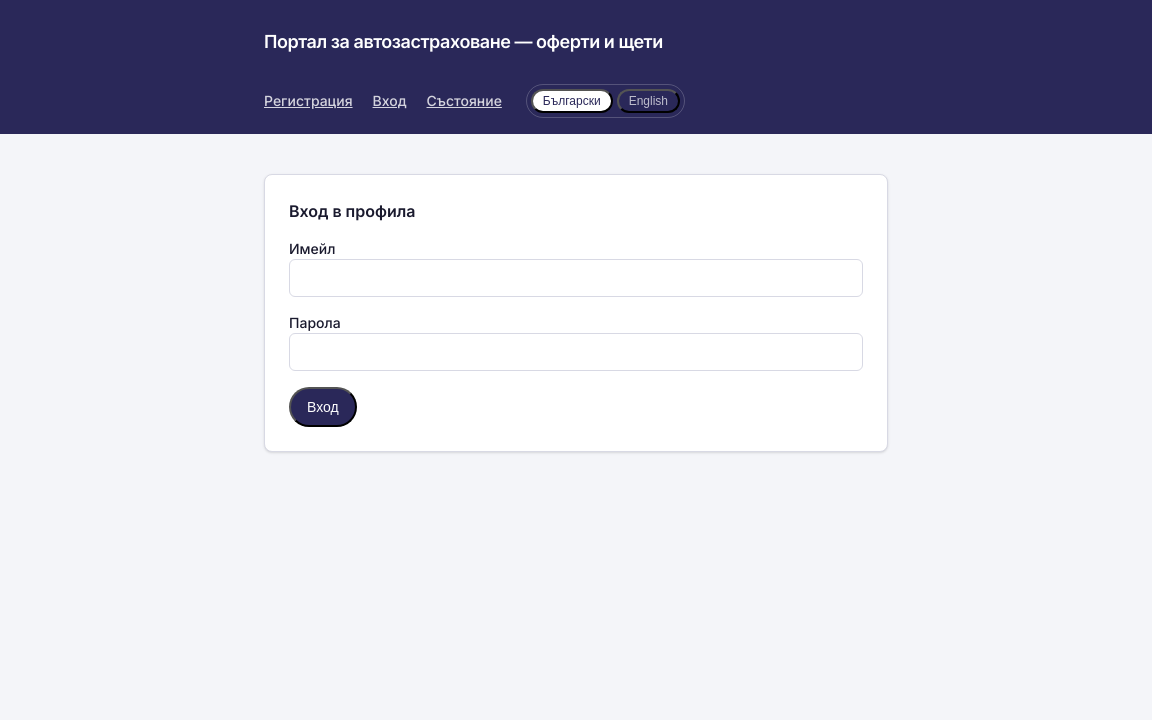
LoginForm role-based post-login routing › treats an undecodable token as a failed login and leaves the form editable
The image size is (1152, 720).
Type "someone@example.com" into the field labelled "Имейл" at (576, 278), box [289,259,863,297]
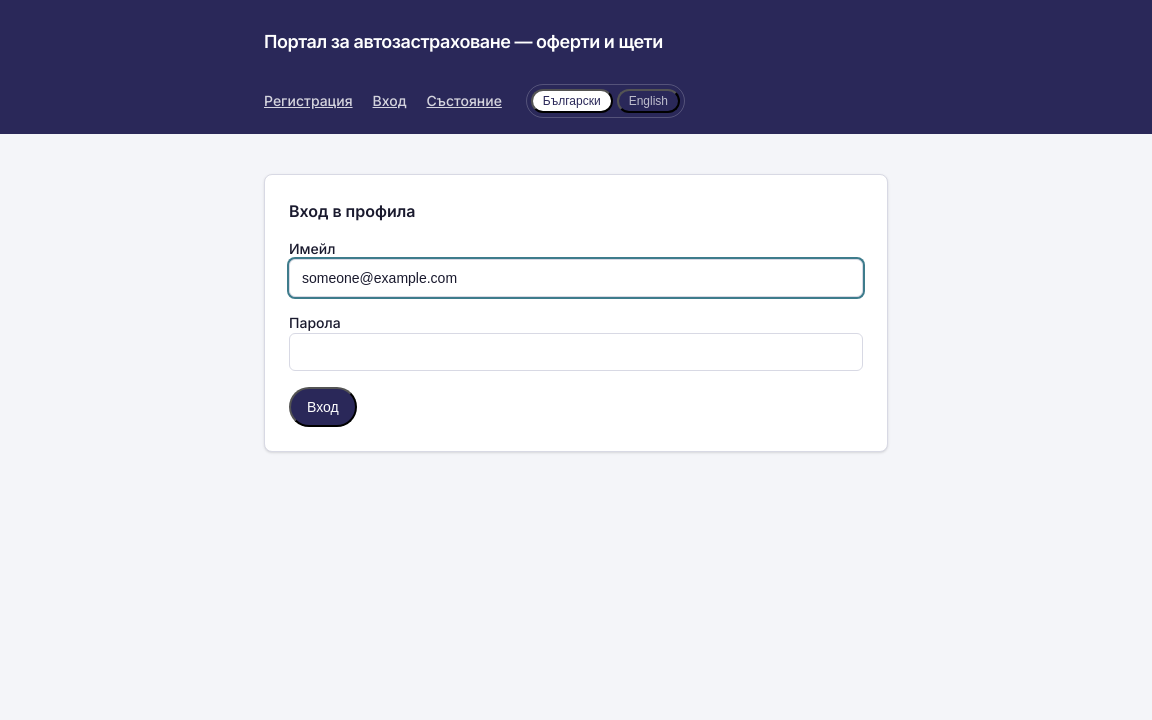
Type "DemoPass123!" into the password field labelled "Парола" at (576, 352), box [289,333,863,371]
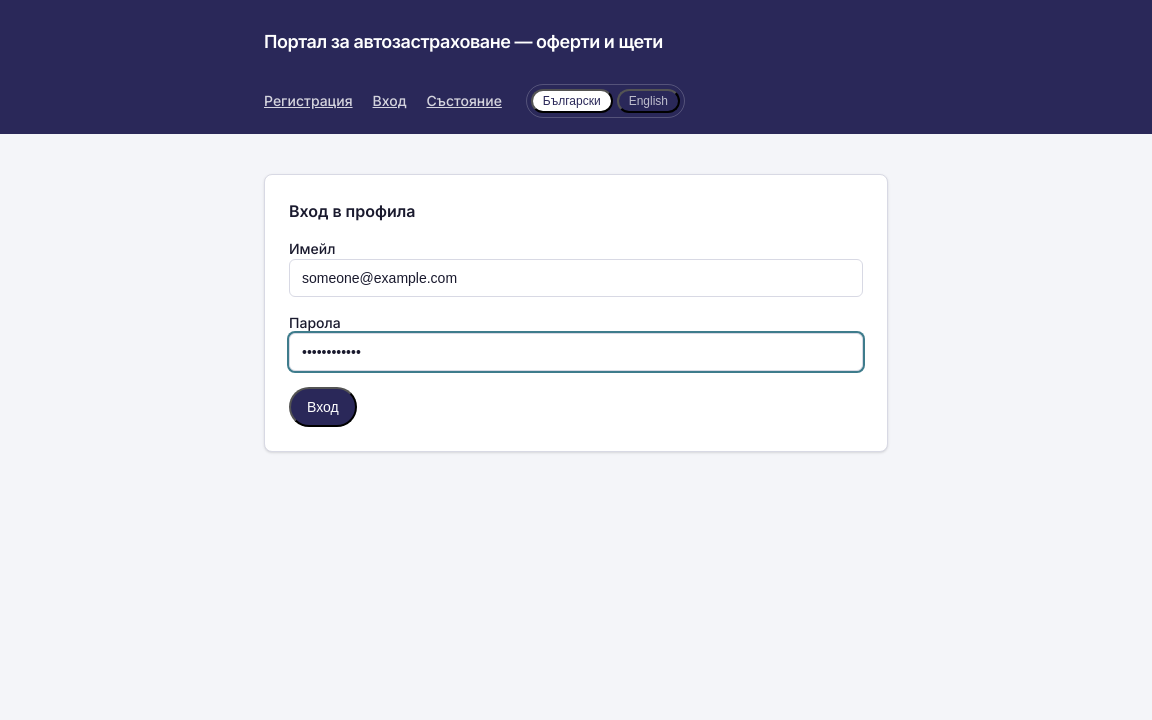
Click the button "Вход" at (323, 407), box [289,387,357,427]
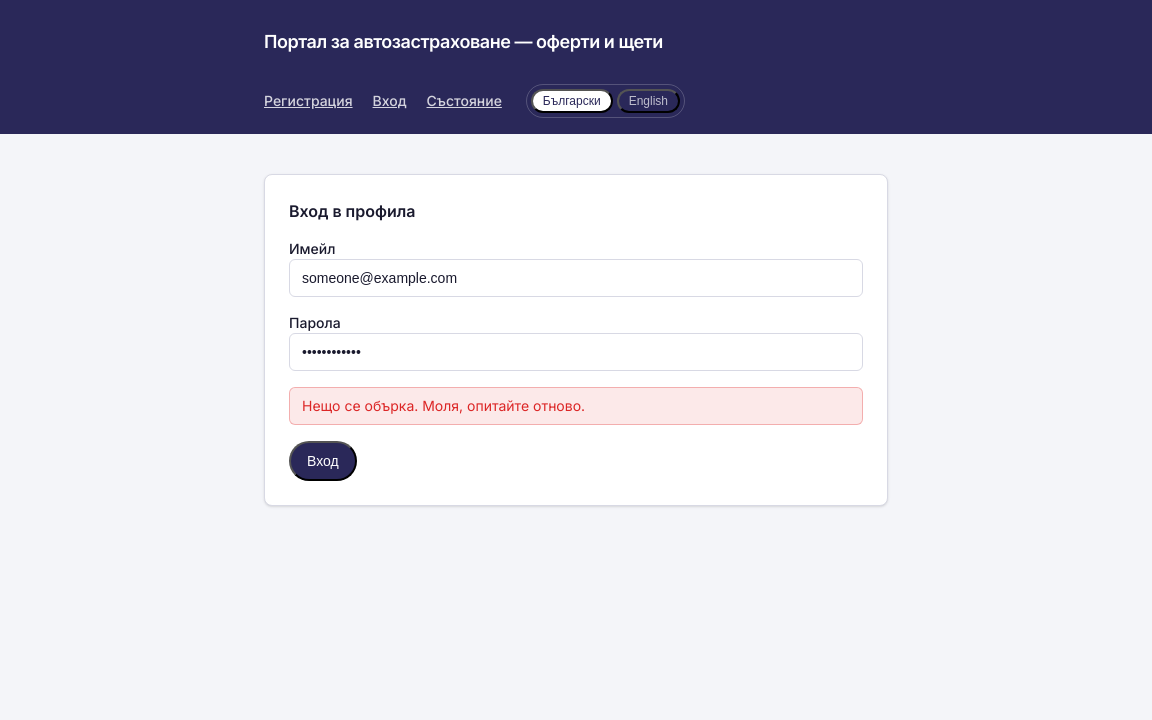
Expected: the button "Вход" is enabled, [289,441,357,481]
Expected: the message with test id "login-error" reads "Нещо се обърка. Моля, опитайте отново.", [302,397,585,414]
